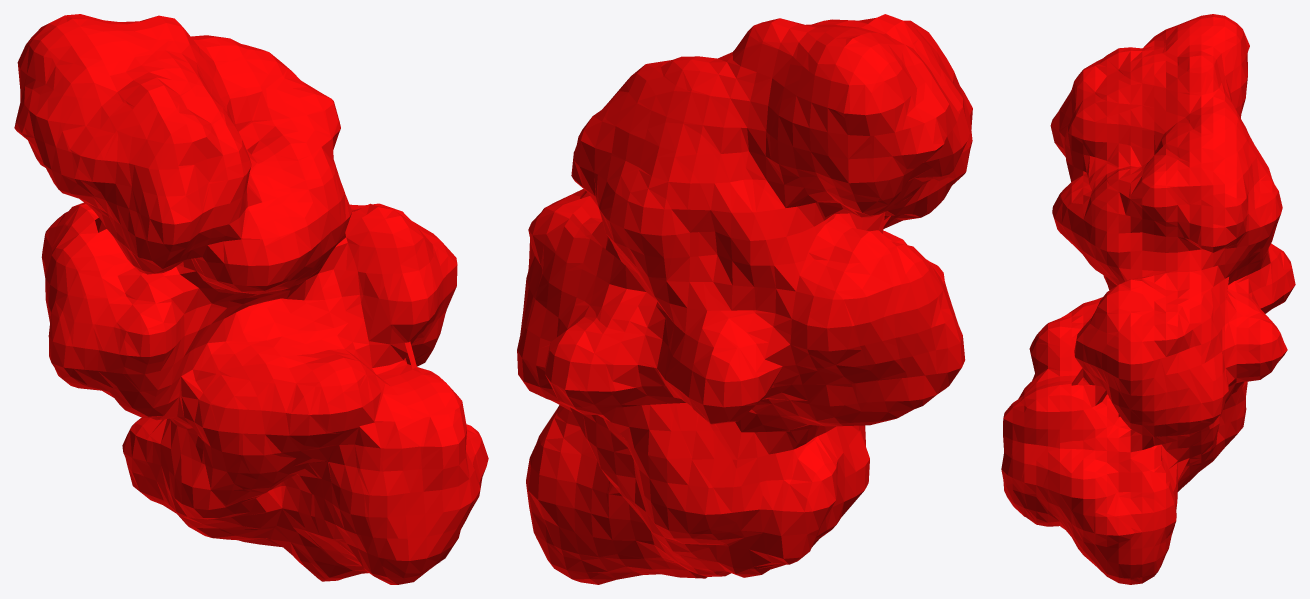
File: murC_coarse.dae
3 renders of one model, left to right at view 1: azimuth 30°, elevation 25°; view 2: azimuth 150°, elevation 25°; view 3: azimuth 270°, elevation 25°, orthographic. The views are drawn at different scales.
Parts seen in each view (by area): view 1: murC; view 2: murC; view 3: murC.
Part boxes in pixels (x1,y1,x2,y2): murC: [14, 14, 488, 584]; murC: [517, 14, 972, 584]; murC: [1001, 14, 1295, 584].
Bounding box in the file's own units: 82.36 × 113 × 66.3.
